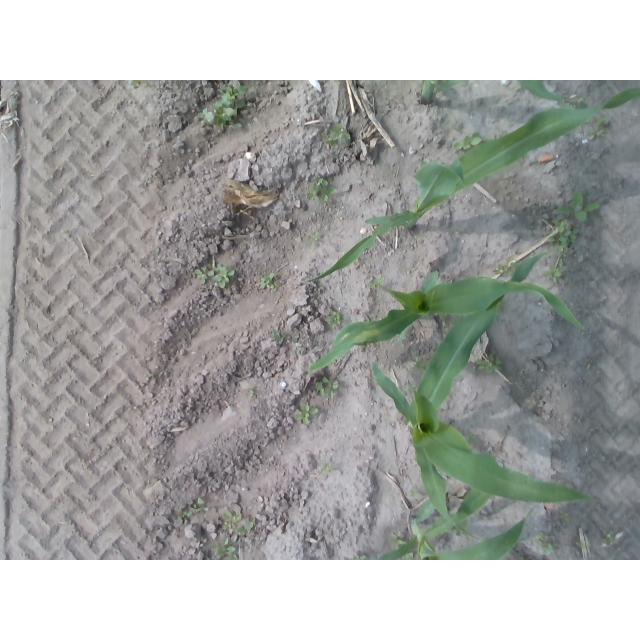Maize: (299, 90, 639, 285), (370, 250, 598, 538), (310, 276, 592, 372), (374, 506, 534, 558), (395, 81, 565, 104)
Weeds: (196, 84, 252, 130), (561, 187, 598, 229), (197, 257, 236, 292), (546, 216, 580, 253), (321, 120, 352, 153), (308, 176, 340, 205), (477, 354, 506, 382), (227, 512, 256, 537), (317, 371, 340, 401), (452, 134, 492, 151), (182, 499, 213, 520), (295, 403, 319, 426), (544, 262, 568, 284), (533, 537, 560, 556), (548, 510, 572, 531), (259, 268, 280, 292), (213, 542, 239, 558), (601, 529, 619, 548), (270, 329, 286, 347), (328, 312, 343, 330), (321, 458, 335, 477)
